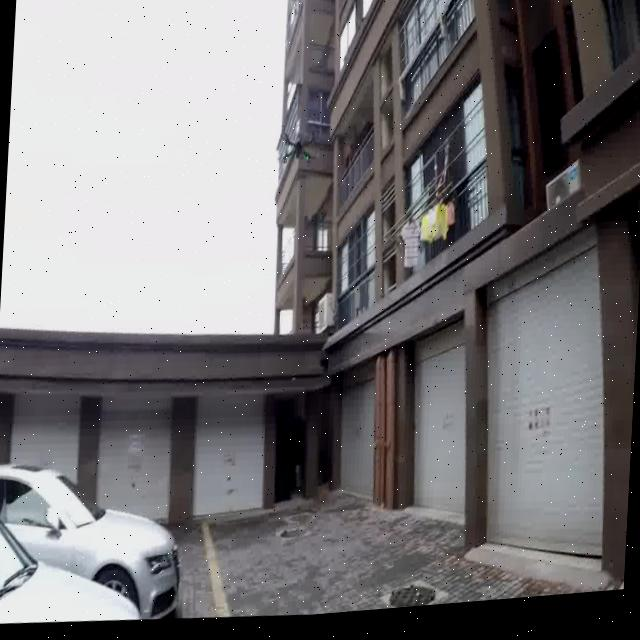drone: (268, 128, 314, 179)
